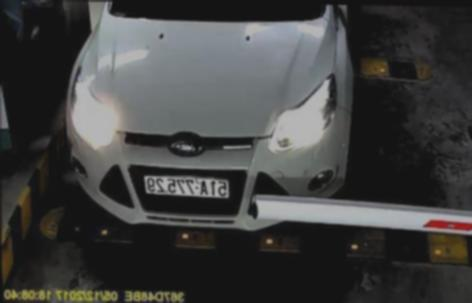License_Plate: (143, 171, 229, 197)
